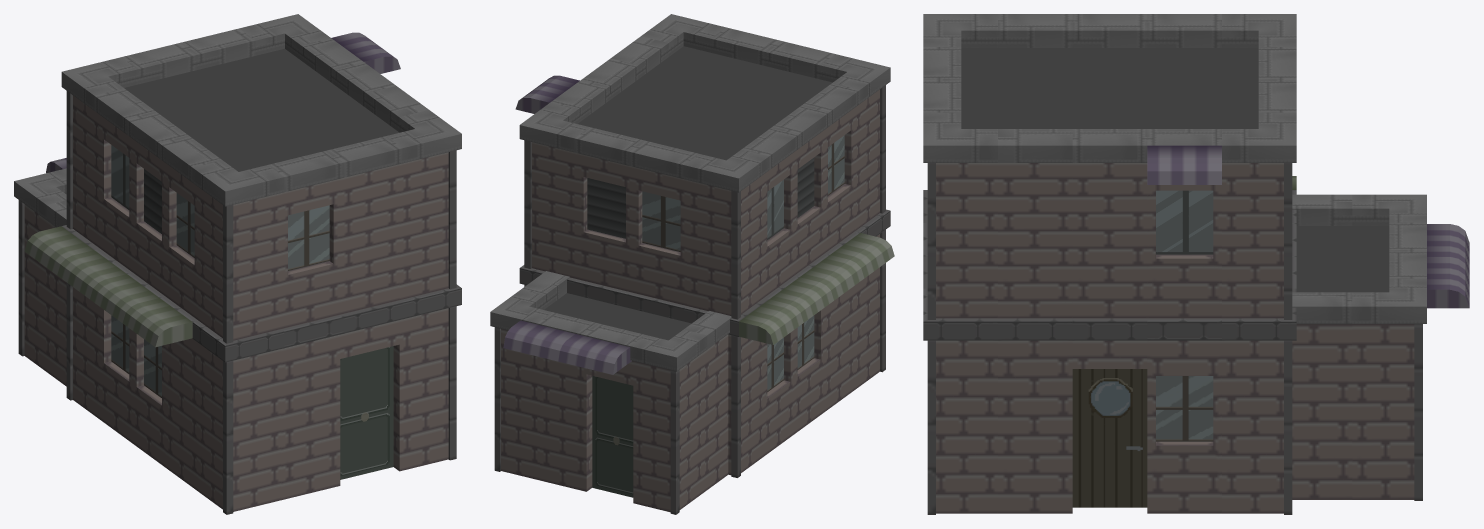
Rendered from SM_Building_A_02.fbx.
3 renders of one model, left to right at view 1: azimuth 30°, elevation 25°; view 2: azimuth 150°, elevation 25°; view 3: azimuth 270°, elevation 25°, orthographic. The views are drawn at different scales.
Visible parts, largest first — view 1: SM_Building_A_02; view 2: SM_Building_A_02; view 3: SM_Building_A_02.
Part boxes in pixels (<box>): SM_Building_A_02: <box>14,14,461,514</box>; SM_Building_A_02: <box>490,14,894,514</box>; SM_Building_A_02: <box>923,14,1469,514</box>.
Bounding box in the file's own units: 600 × 600 × 800.
